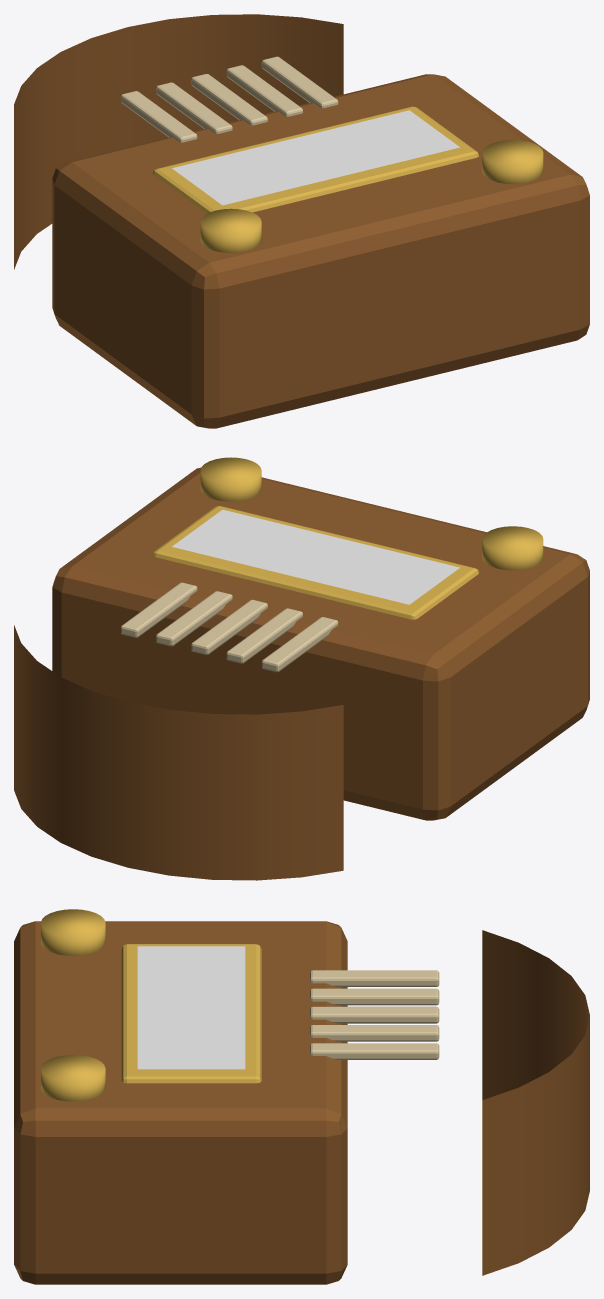
Rendered from kc_radio.glb.
3 renders of one model, top to bottom at view 1: azimuth 30°, elevation 25°; view 2: azimuth 150°, elevation 25°; view 3: azimuth 270°, elevation 25°, orthographic. The views are drawn at different scales.
Parts seen in each view (by area): view 1: Cube, Cylinder, screen, Cube.006, Cylinder.001, Cylinder.002, Cube.005, Cube.003, Cube.002, Cube.004, Cube.001; view 2: Cube, Cylinder, screen, Cube.006, Cylinder.002, Cylinder.001, Cube.001, Cube.004, Cube.005, Cube.002, Cube.003; view 3: Cube, Cylinder, screen, Cube.006, Cylinder.001, Cylinder.002, Cube.003, Cube.002, Cube.001, Cube.005, Cube.004.
Part boxes in pixels (left/top/right/bottom): Cube: left=52, top=74, right=589, bottom=428; Cylinder: left=14, top=14, right=343, bottom=269; screen: left=172, top=110, right=459, bottom=205; Cube.006: left=153, top=106, right=478, bottom=213; Cylinder.001: left=200, top=208, right=261, bottom=252; Cylinder.002: left=482, top=140, right=543, bottom=184; Cube.005: left=261, top=56, right=338, bottom=108; Cube.003: left=191, top=74, right=267, bottom=125; Cube.002: left=156, top=82, right=232, bottom=133; Cube.004: left=226, top=65, right=302, bottom=116; Cube.001: left=121, top=91, right=197, bottom=142; Cube: left=52, top=467, right=589, bottom=820; Cylinder: left=14, top=625, right=343, bottom=880; screen: left=172, top=509, right=459, bottom=604; Cube.006: left=153, top=506, right=478, bottom=619; Cylinder.002: left=200, top=457, right=261, bottom=501; Cylinder.001: left=482, top=526, right=543, bottom=570; Cube.001: left=261, top=617, right=338, bottom=672; Cube.004: left=156, top=591, right=232, bottom=646; Cube.005: left=121, top=582, right=197, bottom=637; Cube.002: left=226, top=608, right=302, bottom=663; Cube.003: left=191, top=599, right=267, bottom=654; Cube: left=14, top=921, right=347, bottom=1284; Cylinder: left=482, top=930, right=589, bottom=1275; screen: left=137, top=946, right=245, bottom=1069; Cube.006: left=121, top=944, right=261, bottom=1083; Cylinder.001: left=41, top=909, right=105, bottom=955; Cylinder.002: left=41, top=1054, right=105, bottom=1101; Cube.003: left=310, top=1006, right=439, bottom=1023; Cube.002: left=310, top=988, right=439, bottom=1005; Cube.001: left=310, top=970, right=439, bottom=986; Cube.005: left=310, top=1043, right=439, bottom=1059; Cube.004: left=310, top=1025, right=439, bottom=1041.
Size of the model in its own units: 0.9 by 0.4 by 1.07.
